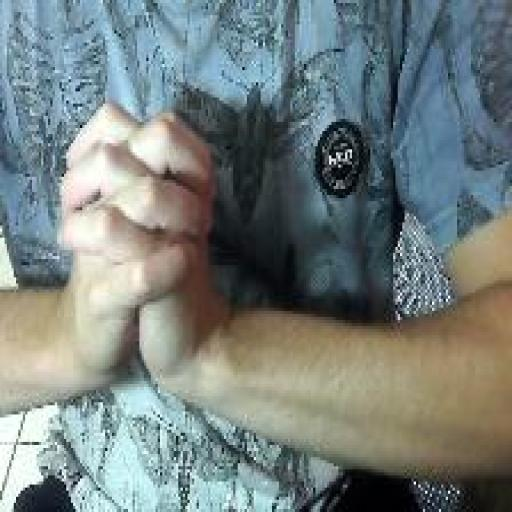Mi -snake-: (55, 98, 219, 412)
